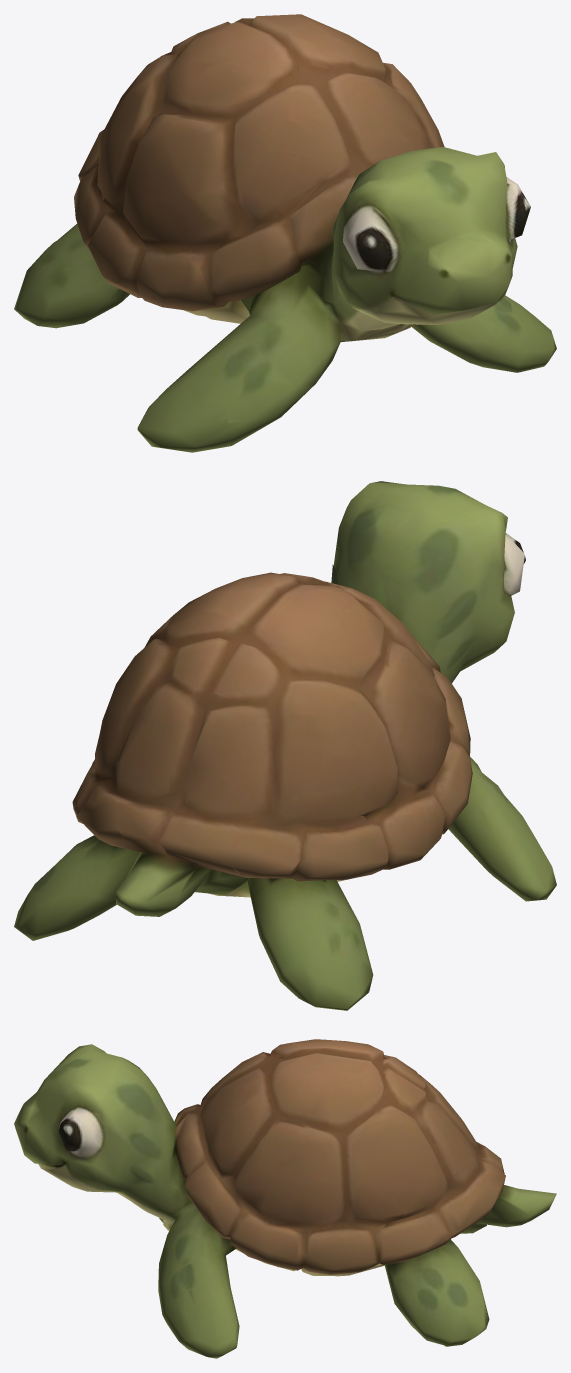
File: fish-turtle.glb
3 renders of one model, top to bottom at view 1: azimuth 30°, elevation 25°; view 2: azimuth 150°, elevation 25°; view 3: azimuth 270°, elevation 25°, orthographic. The views are drawn at different scales.
Visible parts, largest first — view 1: tripo_node_aad97446-cf79-4616-a71b-93a56382f8bd; view 2: tripo_node_aad97446-cf79-4616-a71b-93a56382f8bd; view 3: tripo_node_aad97446-cf79-4616-a71b-93a56382f8bd.
Boxes of the visible parts, x1=… form: tripo_node_aad97446-cf79-4616-a71b-93a56382f8bd: x1=14, y1=14, x2=556, y2=452; tripo_node_aad97446-cf79-4616-a71b-93a56382f8bd: x1=14, y1=481, x2=556, y2=1010; tripo_node_aad97446-cf79-4616-a71b-93a56382f8bd: x1=14, y1=1039, x2=556, y2=1358.
Bounding box in the file's own units: 0.6565 × 0.4814 × 1.
1 material, 1 textured.
